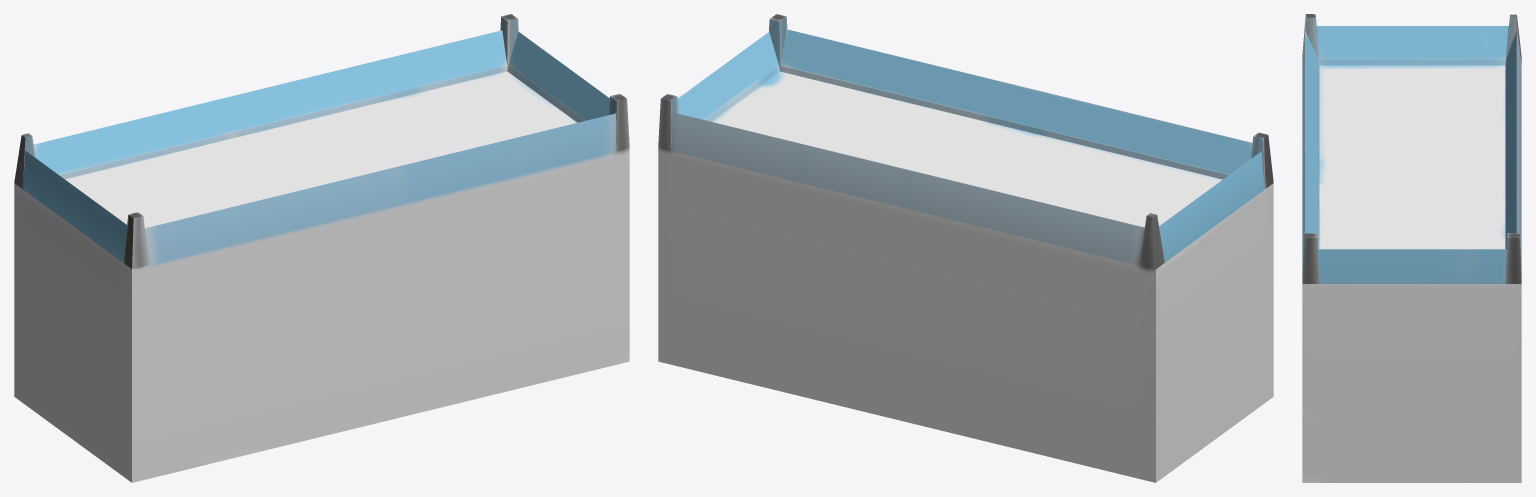
The model's file is aisu.fbx.
3 renders of one model, left to right at view 1: azimuth 30°, elevation 25°; view 2: azimuth 150°, elevation 25°; view 3: azimuth 270°, elevation 25°, orthographic. The views are drawn at different scales.
Visible parts, largest first — view 1: pCube1; view 2: pCube1; view 3: pCube1.
Boxes of the visible parts, x1,y1,x2,y2 form: pCube1: (14,14,629,482); pCube1: (658,14,1273,482); pCube1: (1302,14,1521,482).
Bounding box in the file's own units: 1.46 × 0.5972 × 0.7336.
Materials: 1 (1 with a texture image).
